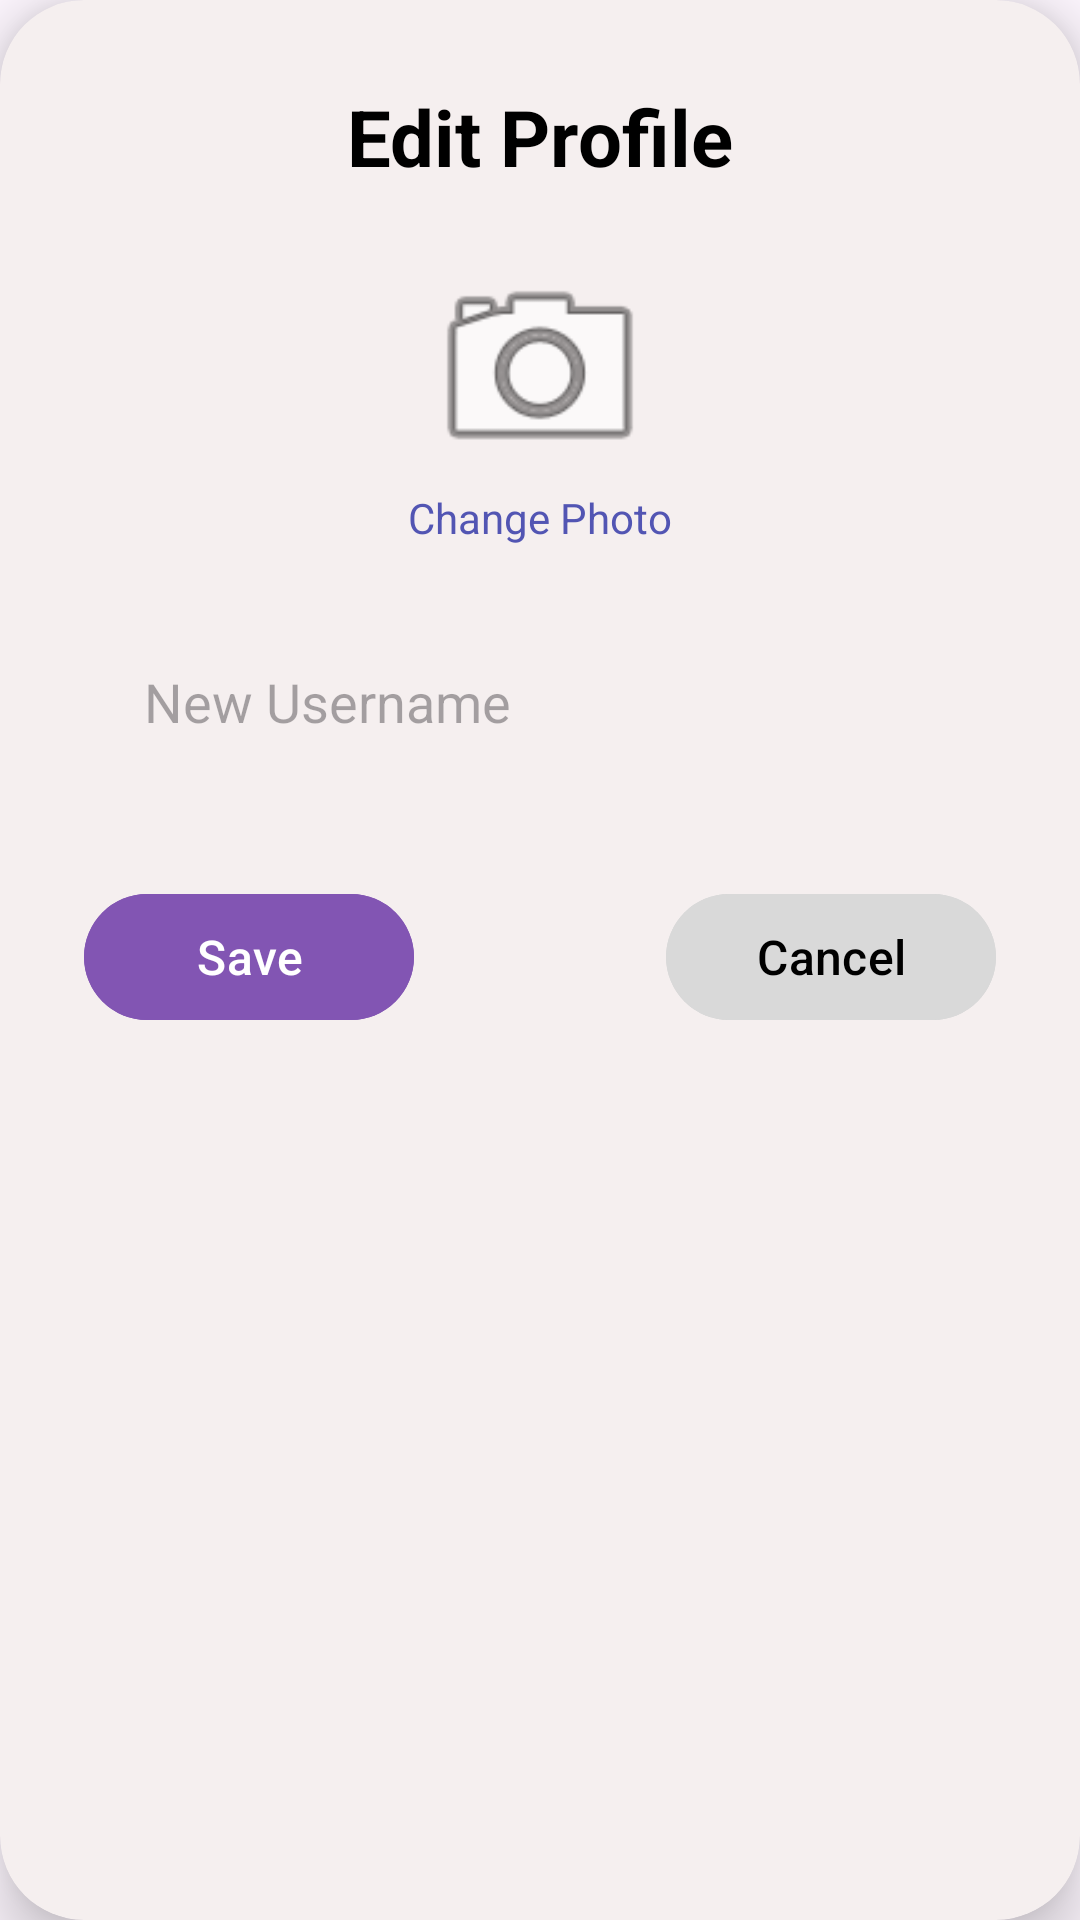

Icon click points for this 1080 x 1920 phone screenshot, format [x,y]:
camera: [540,365]
